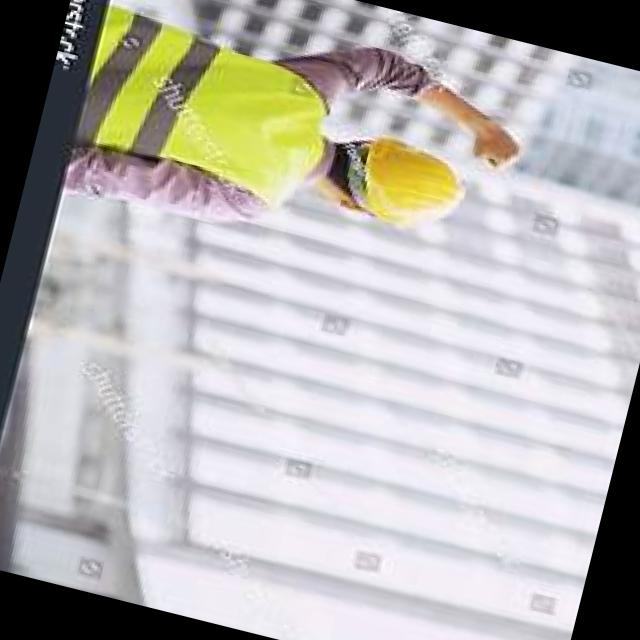not-gloved: (453, 106, 529, 182)
